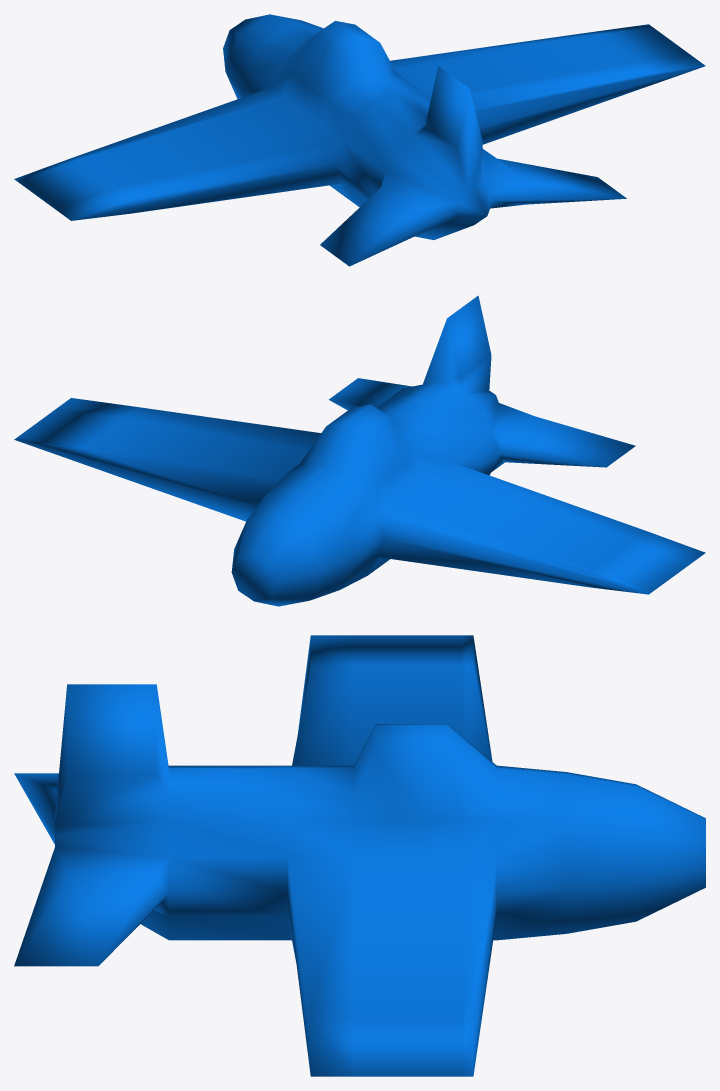
File: toy_airplane.fbx
The picture shows the model from 3 angles, top to bottom: view 1: azimuth 30°, elevation 25°; view 2: azimuth 150°, elevation 25°; view 3: azimuth 270°, elevation 25°; orthographic projection. The views are drawn at different scales.
Parts seen in each view (by area): view 1: Cylinder; view 2: Cylinder; view 3: Cylinder.
Boxes of the visible parts, left/top/right/bottom form: Cylinder: left=14, top=14, right=705, bottom=266; Cylinder: left=14, top=295, right=705, bottom=606; Cylinder: left=14, top=635, right=705, bottom=1076.
Bounding box in the file's own units: 1122 × 300 × 744.
